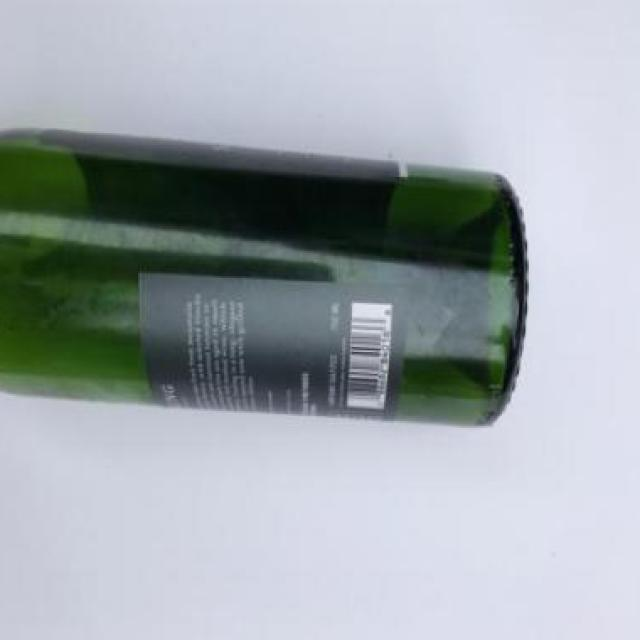kaca: (0, 130, 527, 432)
